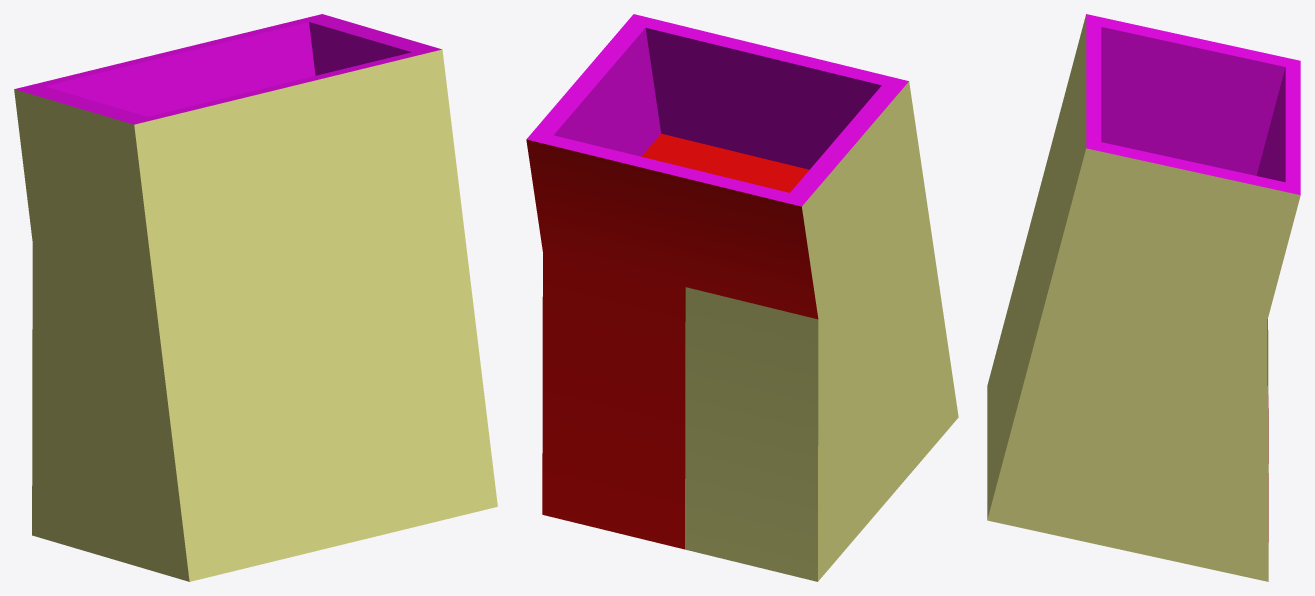
File: pembe_kutu.fbx
3 views of the same model, side by side, from view 1: azimuth 30°, elevation 25°; view 2: azimuth 150°, elevation 25°; view 3: azimuth 270°, elevation 25° (orthographic). The views are drawn at different scales.
Parts seen in each view (by area): view 1: pCube16; view 2: pCube16; view 3: pCube16.
Part boxes in pixels (bbox=[...]): pCube16: bbox=[14, 14, 497, 581]; pCube16: bbox=[526, 14, 958, 581]; pCube16: bbox=[987, 14, 1300, 581].
Size of the model in its own units: 4.33 by 6.51 by 4.27.
